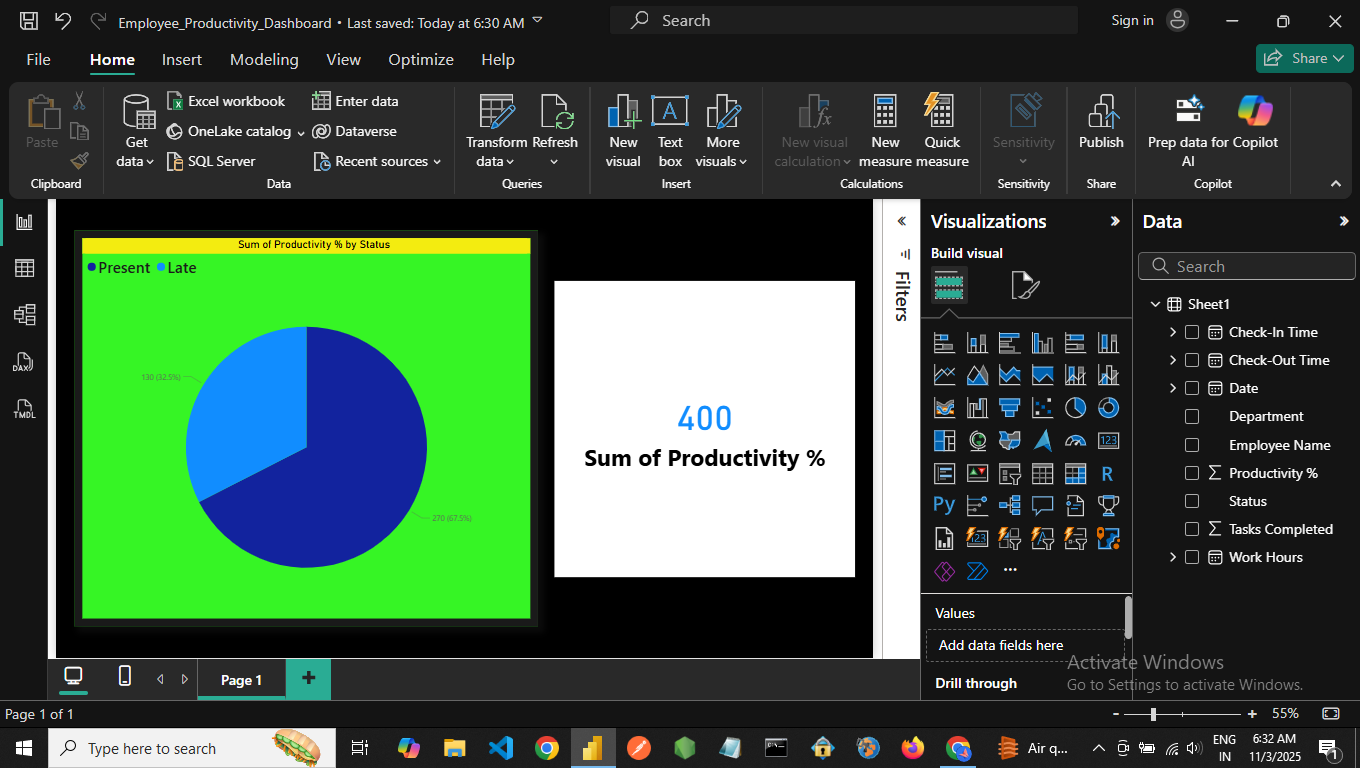

The page's visual inventory and layout, read from the dashboard file:
{"tool":"powerbi","page":{"name":"Page 1","canvas":[1280,720],"ordinal":0},"visuals":[{"type":"pieChart","fields":{"Category":["Sheet1.Status"],"Y":["Sum(Sheet1.Productivity %)"]},"box":[29.3,49.5,725.8,619.5],"z":0},{"type":"card","fields":{"Values":["Sum(Sheet1.Productivity %)"]},"box":[780.7,128.3,471,463.7],"z":1}]}

Visuals, with their boxes on the page's 1280x720 design canvas (x1, y1, x2, y2). These are canvas units, not pixel positions in the 1360x768 screenshot, which may show the page scaled, cropped or inside an application window:
pieChart - Sheet1.Status x Sum(Sheet1.Productivity %): box=[29, 50, 755, 669]
card - Sum(Sheet1.Productivity %): box=[781, 128, 1252, 592]
